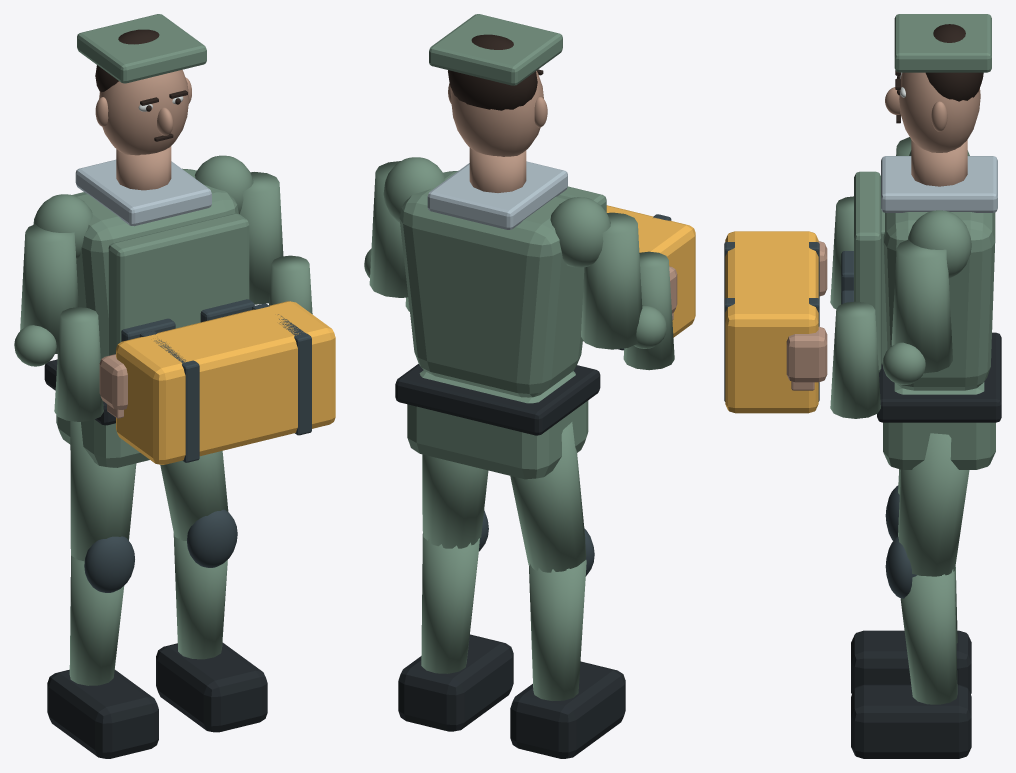
Rendered from crew_supplies.glb.
3 views of the same model, side by side, from view 1: azimuth 30°, elevation 25°; view 2: azimuth 150°, elevation 25°; view 3: azimuth 270°, elevation 25° (orthographic). The views are drawn at different scales.
Parts seen in each view (by area): view 1: Crew_Supply_Olive, Hangar_Safety_Amber, Crew_Boots, LeftArmPivot_Crew_Supply_Olive, Hangar_Recess_Metal, RightArmPivot_Crew_Supply_Olive, HeadPivot_Crew_Warm_Skin, HeadPivot_Crew_Supply_Olive, Hangar_Trim_Metal, Crew_Warm_Skin, LeftArmPivot_Crew_Warm_Skin, HeadPivot_Crew_Hair; view 2: Crew_Supply_Olive, Crew_Boots, LeftArmPivot_Crew_Supply_Olive, HeadPivot_Crew_Supply_Olive, RightArmPivot_Crew_Supply_Olive, Hangar_Trim_Metal, HeadPivot_Crew_Warm_Skin, Hangar_Safety_Amber, HeadPivot_Crew_Hair, Crew_Warm_Skin, Hangar_Recess_Metal; view 3: Crew_Supply_Olive, Crew_Boots, RightArmPivot_Crew_Supply_Olive, Hangar_Safety_Amber, HeadPivot_Crew_Supply_Olive, Hangar_Trim_Metal, HeadPivot_Crew_Warm_Skin, Hangar_Recess_Metal, RightArmPivot_Crew_Warm_Skin, Crew_Warm_Skin, HeadPivot_Crew_Hair, LeftArmPivot_Crew_Supply_Olive.
Part boxes in pixels (box(x1,y1,x2,y2)): Crew_Supply_Olive: box(56, 168, 249, 685); Hangar_Safety_Amber: box(116, 301, 335, 464); Crew_Boots: box(44, 359, 267, 758); LeftArmPivot_Crew_Supply_Olive: box(14, 194, 103, 421); Hangar_Recess_Metal: box(84, 299, 311, 592); RightArmPivot_Crew_Supply_Olive: box(195, 155, 312, 314); HeadPivot_Crew_Warm_Skin: box(95, 69, 191, 155); HeadPivot_Crew_Supply_Olive: box(77, 14, 206, 83); Hangar_Trim_Metal: box(75, 159, 211, 226); Crew_Warm_Skin: box(116, 146, 171, 190); LeftArmPivot_Crew_Warm_Skin: box(99, 354, 127, 418); HeadPivot_Crew_Hair: box(95, 29, 187, 141); Crew_Supply_Olive: box(399, 170, 606, 700); Crew_Boots: box(395, 364, 625, 758); LeftArmPivot_Crew_Supply_Olive: box(550, 197, 674, 370); HeadPivot_Crew_Supply_Olive: box(429, 14, 562, 85); RightArmPivot_Crew_Supply_Olive: box(364, 157, 445, 311); Hangar_Trim_Metal: box(427, 161, 567, 229); HeadPivot_Crew_Warm_Skin: box(448, 71, 547, 156); Hangar_Safety_Amber: box(606, 205, 695, 337); HeadPivot_Crew_Hair: box(448, 34, 543, 110); Crew_Warm_Skin: box(469, 147, 526, 192); Hangar_Recess_Metal: box(479, 214, 671, 576); Crew_Supply_Olive: box(854, 171, 995, 704); Crew_Boots: box(851, 332, 1001, 758); RightArmPivot_Crew_Supply_Olive: box(830, 210, 971, 418); Hangar_Safety_Amber: box(725, 231, 818, 413); HeadPivot_Crew_Supply_Olive: box(894, 14, 991, 72); Hangar_Trim_Metal: box(881, 156, 997, 212); HeadPivot_Crew_Warm_Skin: box(885, 72, 980, 152); Hangar_Recess_Metal: box(724, 242, 916, 598); RightArmPivot_Crew_Warm_Skin: box(786, 326, 827, 390); Crew_Warm_Skin: box(911, 140, 967, 186); HeadPivot_Crew_Hair: box(895, 24, 983, 123); LeftArmPivot_Crew_Supply_Olive: box(830, 137, 969, 309).
Bounding box in the file's own units: 0.872 × 1.96 × 0.7125.
